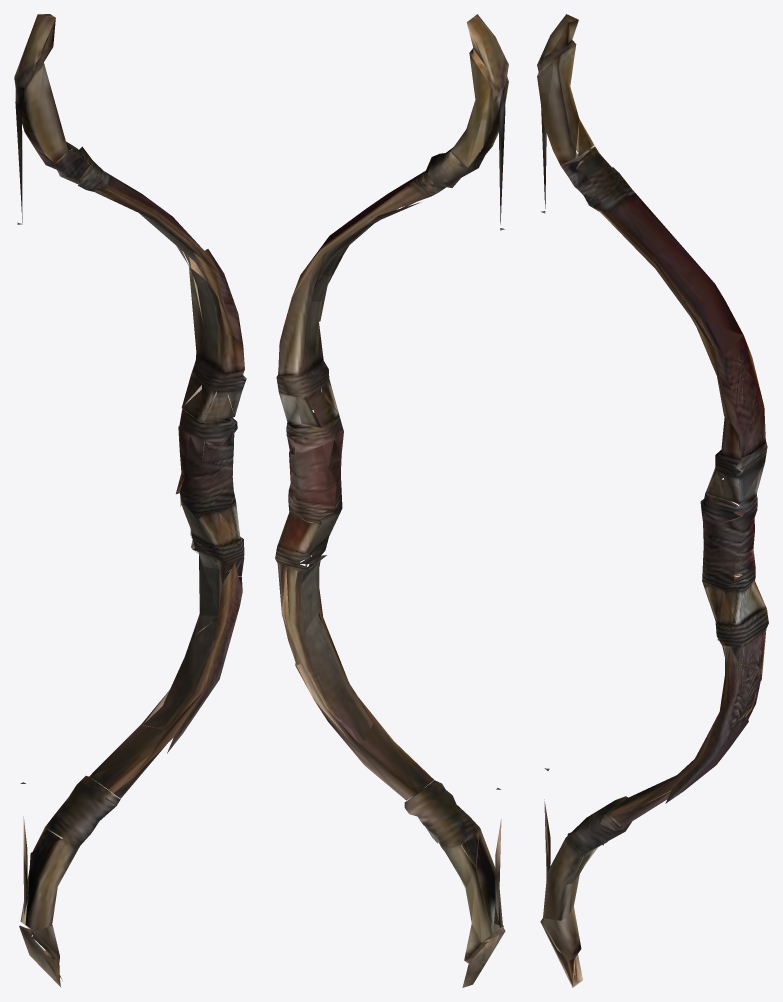
File: kamon.glb
3 views of the same model, side by side, from view 1: azimuth 30°, elevation 25°; view 2: azimuth 150°, elevation 25°; view 3: azimuth 330°, elevation 25° (orthographic).
Visible parts, largest first — view 1: kamon; view 2: kamon; view 3: kamon.
Part boxes in pixels (x1,y1,x2,y2): kamon: [14, 14, 246, 986]; kamon: [275, 14, 508, 987]; kamon: [537, 14, 768, 987].
Size of the model in its own units: 0.2934 by 1.24 by 0.0734.
1 material, 1 textured.
